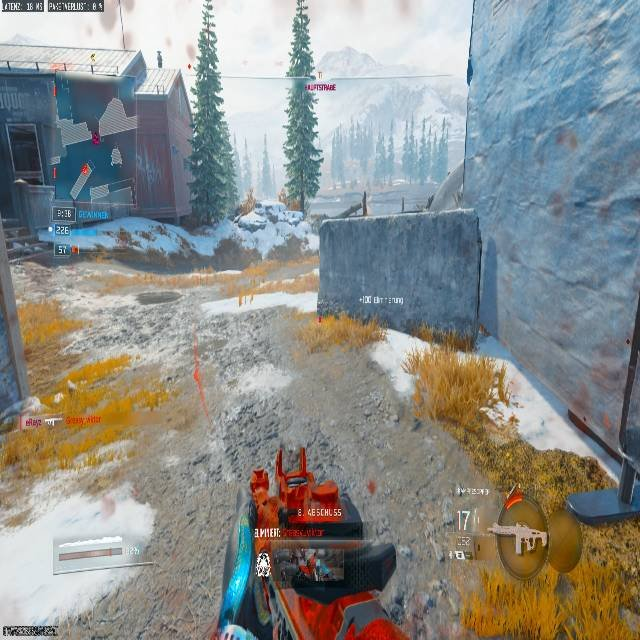head: (248, 467, 268, 495)
